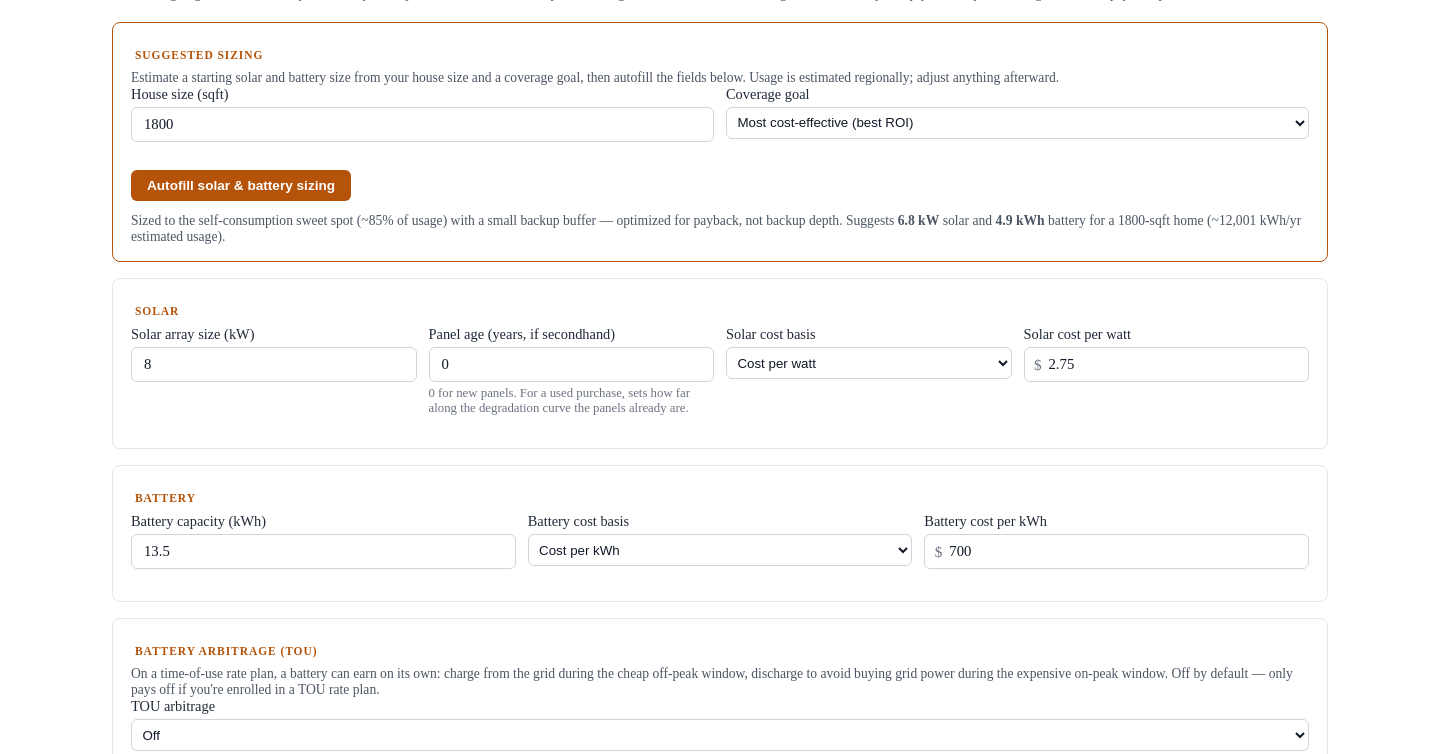
Test: <SolarBatteryComponent /> › enabling TOU arbitrage reveals its inputs and the arbitrage stat
Select "On" in the dropdown labelled "TOU arbitrage" at x=720, y=735, box 131,719 -> 1309,751
(page scrolled)
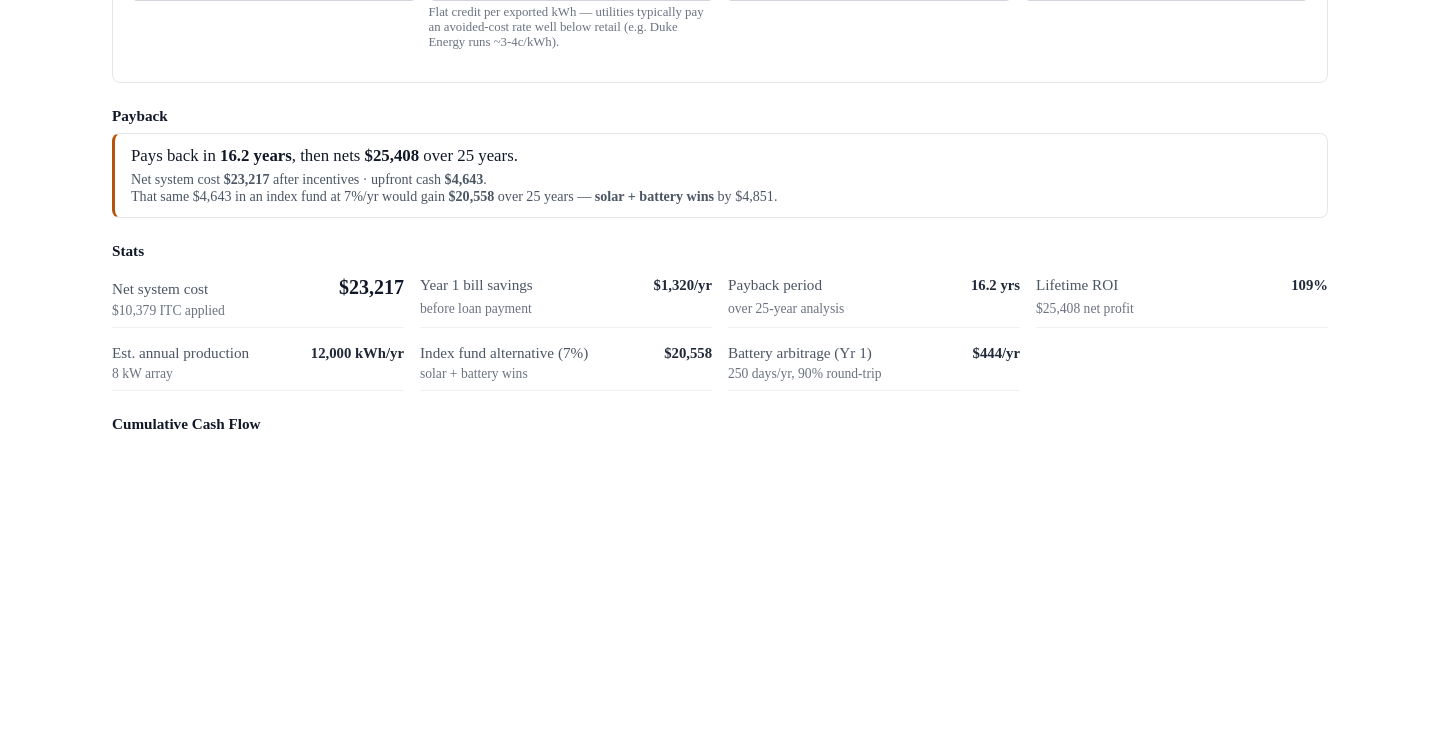
Check: the text "Battery arbitrage (Yr 1)" is shown, box 728,344 -> 872,361
